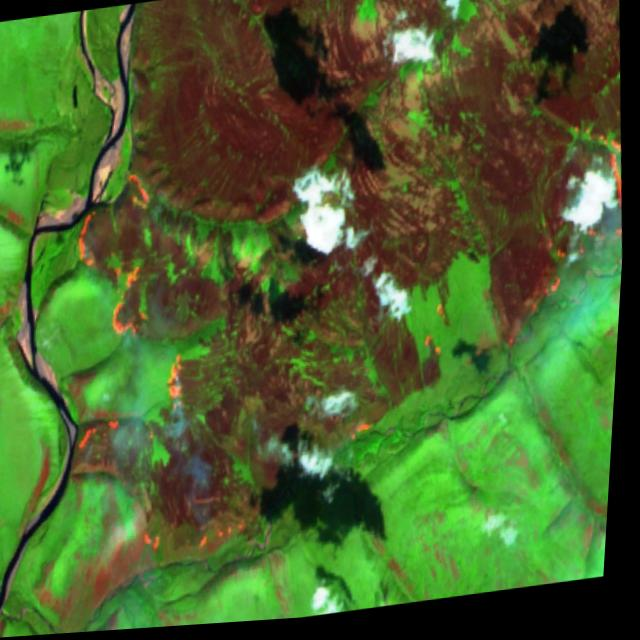fire: (43, 147, 314, 596), (490, 119, 633, 383)
